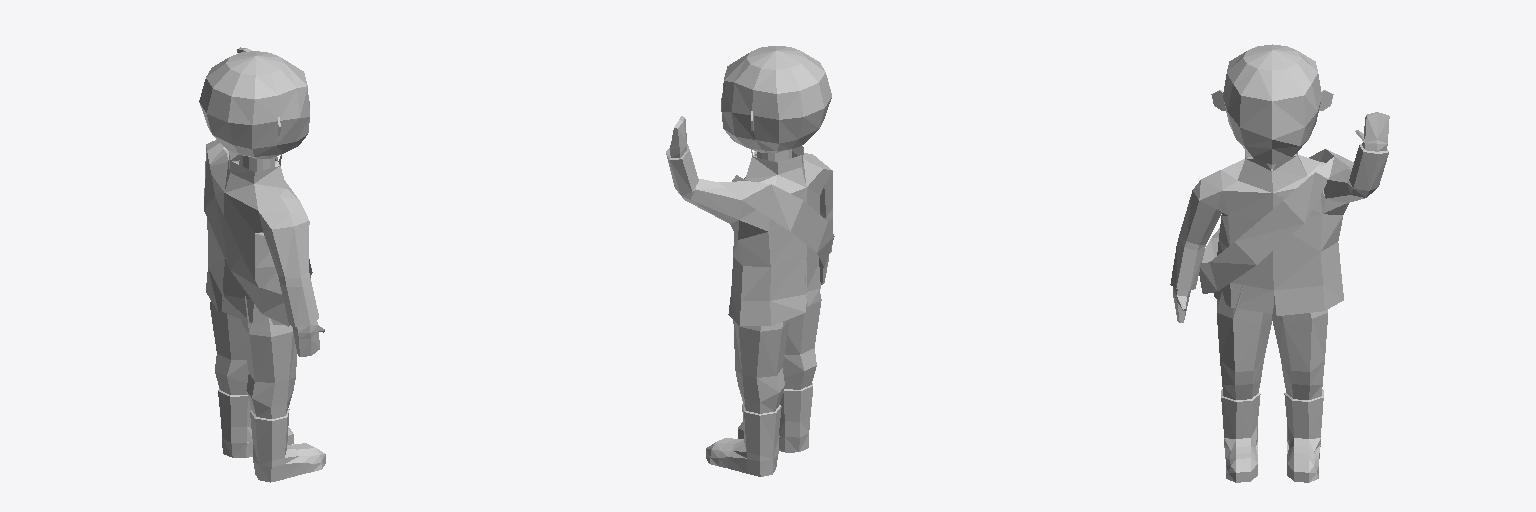
Rendered from player.obj.
The picture shows the model from 3 angles: view 1: azimuth 30°, elevation 25°; view 2: azimuth 150°, elevation 25°; view 3: azimuth 270°, elevation 25°; orthographic projection.
Parts seen in each view (by area): view 1: player, sash; view 2: player, sash; view 3: player, sash.
Part boxes in pixels (left/top/right/bottom): player: left=199, top=47, right=325, bottom=482; sash: left=204, top=140, right=312, bottom=326; player: left=666, top=46, right=832, bottom=476; sash: left=719, top=175, right=834, bottom=268; player: left=1170, top=44, right=1389, bottom=482; sash: left=1199, top=149, right=1353, bottom=293.
Size of the model in its own units: 2.08 by 7.61 by 3.71.